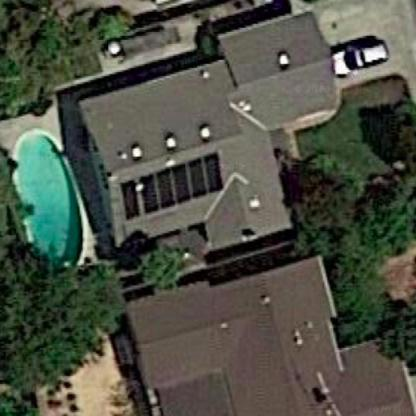car: (332, 33, 395, 80)
solar_panel: (118, 146, 229, 222)
swimming_pool: (7, 118, 96, 280)
